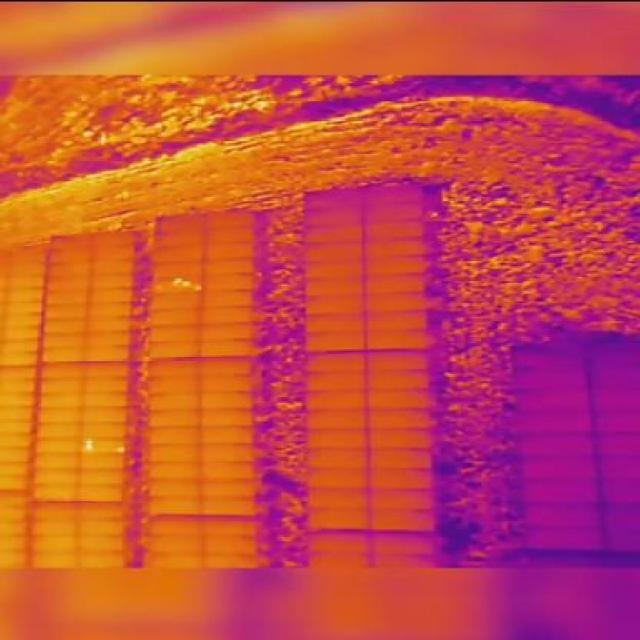panel: (520, 525, 606, 553), (518, 500, 604, 527), (517, 478, 602, 505), (515, 454, 599, 481), (514, 432, 598, 457), (509, 344, 590, 369), (510, 367, 591, 392), (512, 389, 592, 413), (514, 411, 594, 435), (369, 531, 437, 557), (305, 530, 371, 556), (368, 508, 435, 533), (368, 467, 435, 492), (368, 488, 436, 512), (305, 507, 370, 532), (367, 447, 434, 471), (367, 428, 434, 451), (366, 407, 433, 430), (366, 388, 433, 411), (365, 368, 432, 391), (365, 350, 432, 373), (364, 330, 431, 353), (304, 408, 368, 432), (305, 428, 369, 452), (305, 447, 369, 471), (306, 468, 370, 492), (306, 487, 370, 511), (363, 309, 429, 332), (364, 291, 430, 314), (363, 273, 429, 296), (363, 254, 428, 277), (143, 533, 203, 557), (303, 390, 368, 412), (303, 331, 367, 353), (302, 351, 366, 373), (303, 370, 367, 392), (303, 259, 365, 281), (303, 276, 365, 298), (304, 295, 366, 317), (197, 459, 256, 482), (198, 441, 257, 464), (303, 313, 367, 334), (362, 237, 426, 258), (361, 219, 425, 240), (362, 202, 426, 223), (302, 188, 363, 210), (304, 206, 365, 228), (201, 534, 259, 557), (198, 478, 258, 500), (305, 241, 365, 263), (197, 425, 255, 447), (144, 478, 201, 500), (145, 495, 202, 517), (200, 517, 257, 539), (197, 390, 256, 411), (197, 372, 256, 393), (198, 356, 257, 377), (197, 338, 256, 359), (198, 321, 257, 342), (303, 224, 364, 244), (198, 407, 255, 428), (145, 518, 204, 538), (199, 497, 258, 517), (199, 305, 258, 325), (145, 443, 201, 464), (144, 461, 200, 482), (152, 228, 206, 249), (152, 243, 206, 264), (146, 374, 200, 395), (147, 391, 201, 412), (145, 409, 201, 429), (145, 426, 201, 446), (201, 272, 257, 292), (153, 212, 206, 233), (149, 306, 202, 327), (148, 323, 201, 344), (203, 241, 256, 262), (150, 275, 205, 295), (148, 292, 203, 312), (146, 358, 201, 378), (200, 289, 257, 308), (203, 209, 257, 229), (76, 533, 127, 554), (27, 532, 80, 552), (27, 518, 80, 538), (27, 501, 80, 521), (148, 340, 200, 360), (151, 259, 205, 278), (76, 518, 127, 538), (29, 482, 79, 502), (77, 501, 127, 521), (31, 467, 80, 487), (77, 482, 126, 502), (77, 467, 126, 487), (79, 437, 128, 457), (202, 258, 256, 276), (203, 226, 256, 244), (84, 344, 134, 363), (29, 551, 81, 569), (77, 454, 126, 473), (76, 551, 127, 569), (79, 421, 129, 439), (81, 405, 131, 423), (81, 391, 131, 409), (83, 375, 133, 393), (83, 361, 133, 379), (41, 316, 87, 335), (38, 361, 86, 379), (38, 377, 86, 395), (38, 392, 86, 410), (36, 407, 84, 425), (34, 421, 82, 439), (33, 437, 81, 455), (86, 287, 134, 305), (88, 259, 136, 277), (90, 243, 138, 261), (43, 302, 88, 321), (31, 453, 81, 470), (86, 301, 133, 319), (88, 273, 135, 291), (41, 332, 87, 350), (39, 343, 85, 361), (46, 247, 94, 264), (43, 275, 91, 292), (49, 234, 94, 252), (7, 258, 48, 277), (42, 288, 90, 304), (84, 330, 132, 346), (84, 316, 132, 332), (1, 311, 43, 328), (1, 337, 41, 354), (1, 325, 43, 341), (3, 298, 44, 314), (7, 273, 45, 290), (1, 350, 41, 366), (5, 286, 43, 302)
